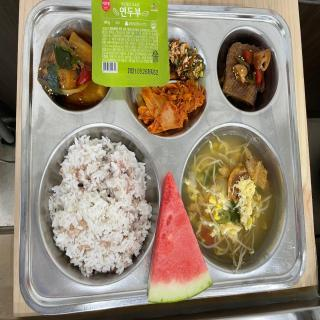Nasi: (53, 142, 148, 274)
